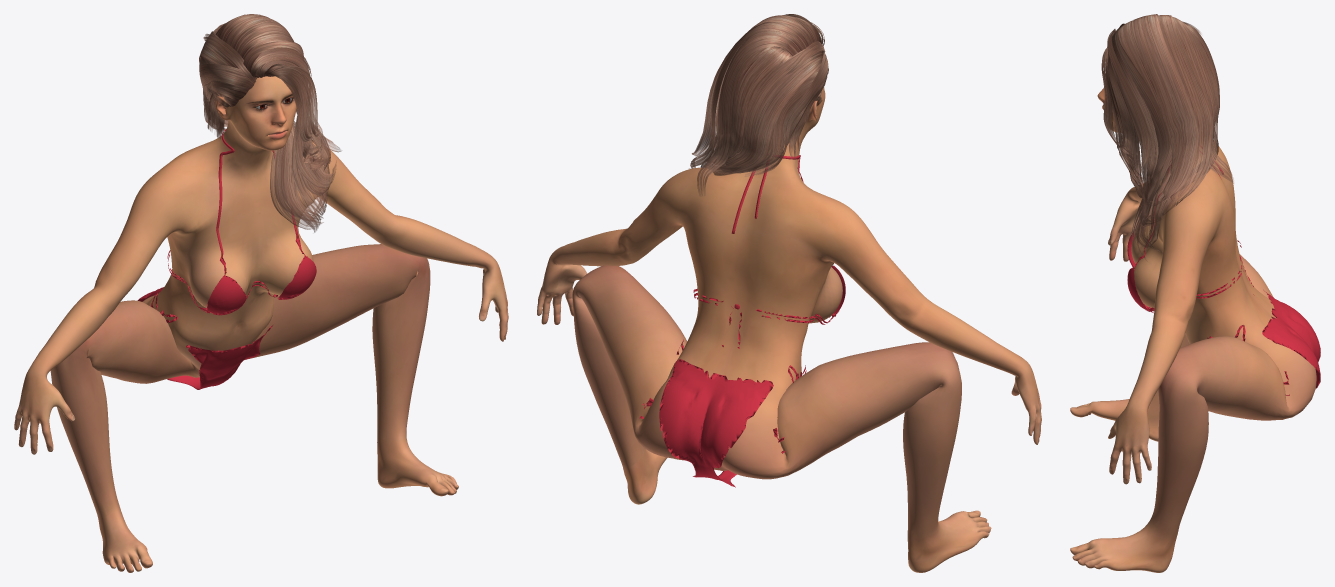
File: female_squat_v4.glb
3 views of the same model, side by side, from view 1: azimuth 30°, elevation 25°; view 2: azimuth 150°, elevation 25°; view 3: azimuth 270°, elevation 25° (orthographic). The views are drawn at different scales.
Visible parts, largest first — view 1: Body, Body.elvs_adrienne_hair, Bikini; view 2: Body, Body.elvs_adrienne_hair, Bikini; view 3: Body, Body.elvs_adrienne_hair, Bikini.
Boxes of the visible parts, <box> form: Body: <box>14,76,508,572</box>; Body.elvs_adrienne_hair: <box>199,14,341,232</box>; Bikini: <box>137,129,316,389</box>; Body: <box>537,67,1041,572</box>; Body.elvs_adrienne_hair: <box>689,14,828,196</box>; Bikini: <box>639,155,845,487</box>; Body: <box>1070,88,1316,572</box>; Body.elvs_adrienne_hair: <box>1101,14,1233,261</box>; Bikini: <box>1127,147,1320,395</box>.
Size of the model in its own units: 1.13 by 1.12 by 0.522.
8 materials, 7 textured.
